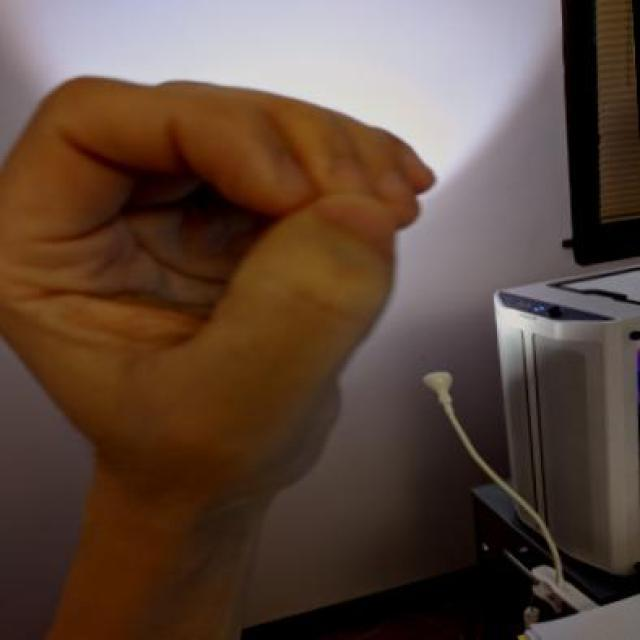O: (0, 68, 445, 640)
